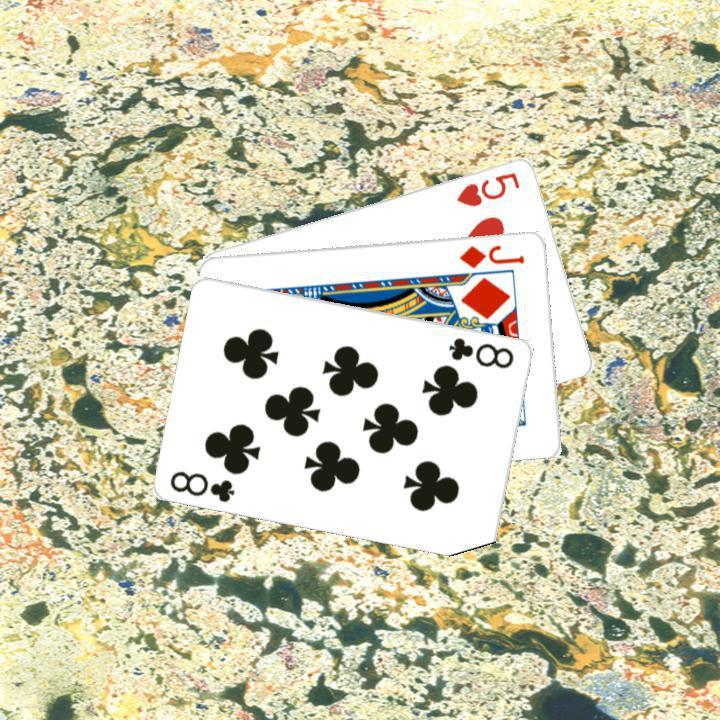5: (452, 167, 523, 208)
8: (445, 332, 517, 371), (166, 466, 238, 504)
J: (455, 240, 527, 270)
